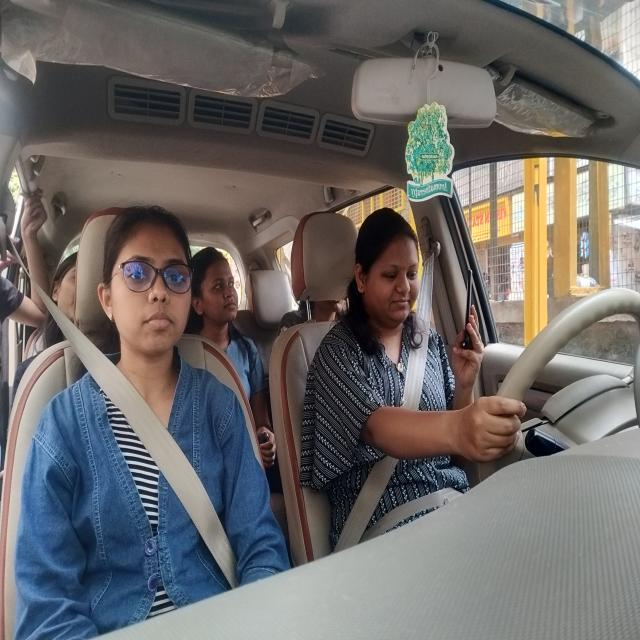mobile: (460, 259, 476, 358)
person: (97, 204, 194, 365), (351, 205, 432, 333), (188, 239, 244, 343), (50, 250, 85, 333)
